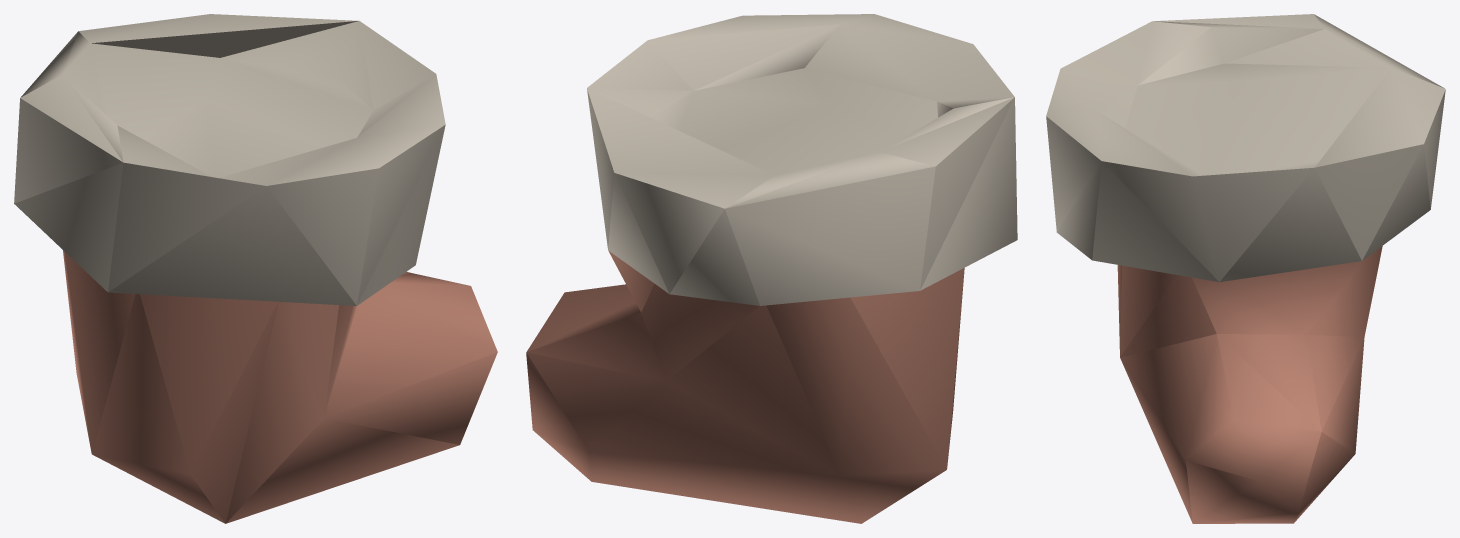
File: stocking_01.low.glb
3 renders of one model, left to right at view 1: azimuth 30°, elevation 25°; view 2: azimuth 150°, elevation 25°; view 3: azimuth 270°, elevation 25°, orthographic. The views are drawn at different scales.
Size of the model in its own units: 1.46 by 1.33 by 1.32.
